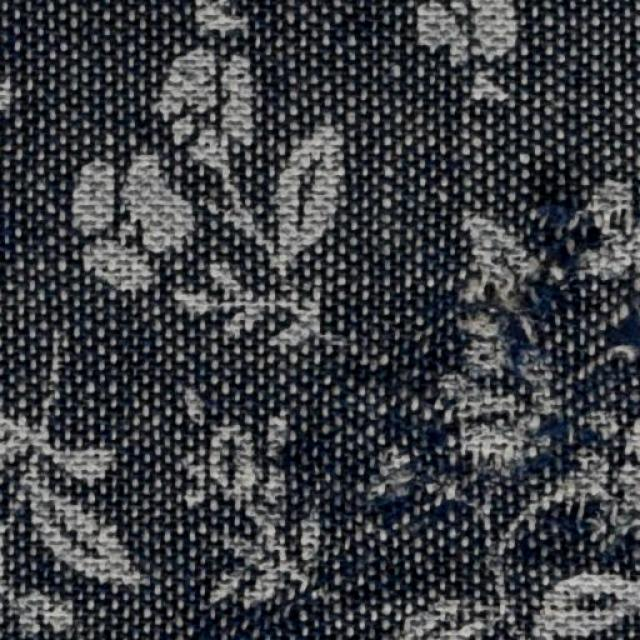Snag: (346, 193, 600, 538)
